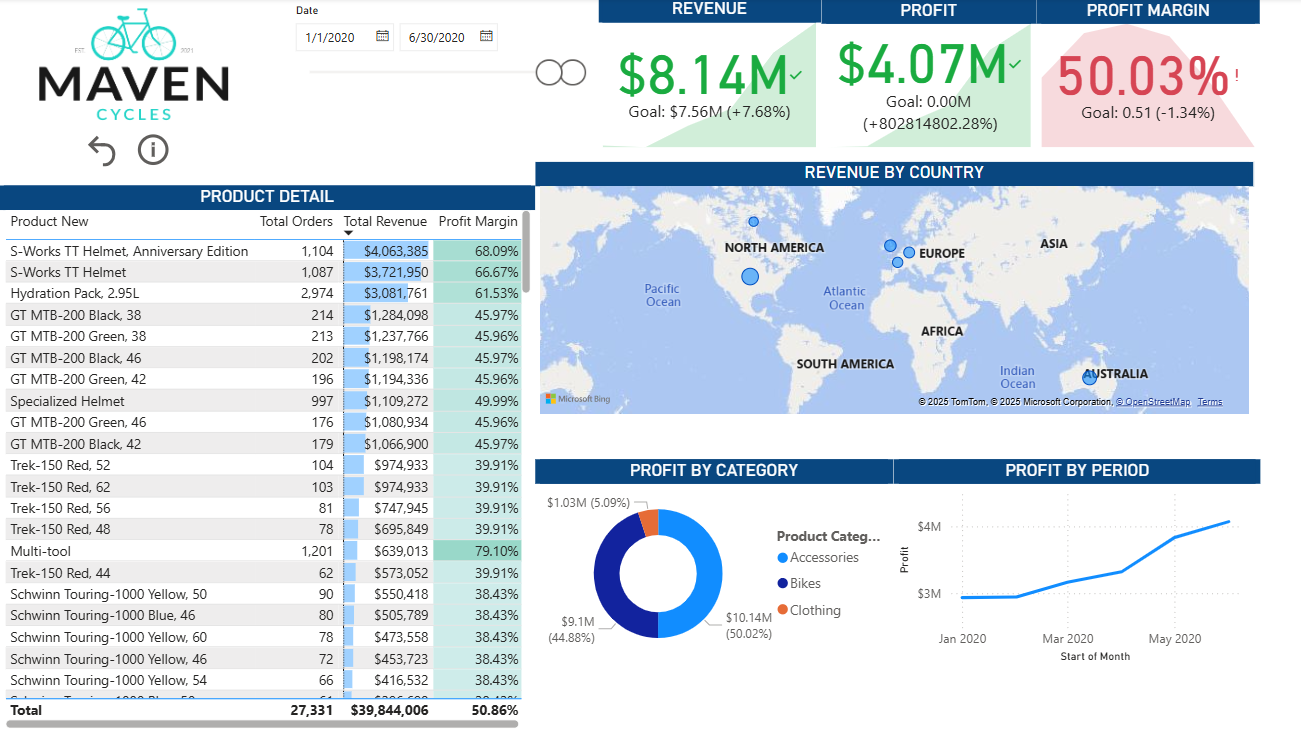

This screenshot's page, from the dashboard's own definition file:
{"tool":"powerbi","page":{"name":"Executive View","canvas":[1280,720],"ordinal":0},"visuals":[{"type":"kpi","title":"REVENUE","fields":{"Indicator":["Maven Cycles Sales.Total Revenue"],"TrendLine":["Maven Cycles Calendar.Start of Month"],"Goal":["Maven Cycle Products.Last Month Revenue"]},"box":[586.2,0,218.8,151.2],"z":0},{"type":"kpi","title":"PROFIT","fields":{"TrendLine":["Maven Cycles Calendar.Start of Month"],"Goal":["Maven Cycle Products.Last Month Profit Margin"],"Indicator":["Maven Cycles Sales.Profit"]},"box":[805,1.2,210,150],"z":1000},{"type":"kpi","title":"PROFIT MARGIN","fields":{"TrendLine":["Maven Cycles Calendar.Start of Month"],"Indicator":["Maven Cycles Sales.Profit Margin"],"Goal":["Maven Cycle Products.Last Month Profit Margin"]},"box":[1015,1.2,218.8,150],"z":2000},{"type":"tableEx","title":"PRODUCT DETAIL","fields":{"Values":["Maven Cycle Products.Product New","Maven Cycles Sales.Total Orders","Maven Cycles Sales.Total Revenue","Maven Cycles Sales.Profit Margin"]},"box":[0,183.8,525,536.2],"z":3000},{"type":"map","title":"REVENUE BY COUNTRY","fields":{"Category":["Maven Cycles Regions.Country"],"Size":["Maven Cycles Sales.Total Revenue"]},"box":[525,160,702.5,251.2],"z":4000},{"type":"lineChart","title":"PROFIT BY PERIOD","fields":{"Category":["Maven Cycles Calendar.Start of Month","Maven Cycles Calendar.Start of Quarter","Maven Cycles Calendar.Year"],"Y":["Maven Cycles Sales.Profit"]},"box":[875,451.2,358.8,203.8],"z":5000},{"type":"donutChart","title":"PROFIT BY CATEGORY ","fields":{"Y":["Maven Cycles Sales.Profit"],"Category":["Maven Cycles Product Categories.Product Category"]},"box":[525,451.2,350,205],"z":6000},{"type":"image","box":[0,0,262.5,130],"z":7000},{"type":"slicer","fields":{"Values":["Maven Cycles Calendar.Date"]},"box":[277.5,0,308.8,128.8],"z":8000},{"type":"actionButton","box":[81.2,130,50,40],"z":9000},{"type":"actionButton","box":[131.2,128.8,42.5,40],"z":10000}]}

Visuals, with their boxes in screenshot pixels (x1, y1, x2, y2), scaled from the page's 1280x720 canvas onto the 1301x733 screenshot:
"REVENUE" kpi: region(596, 0, 818, 154)
"PROFIT" kpi: region(818, 1, 1032, 154)
"PROFIT MARGIN" kpi: region(1032, 1, 1254, 154)
"PRODUCT DETAIL" tableEx: region(0, 187, 534, 732)
"REVENUE BY COUNTRY" map: region(534, 163, 1248, 419)
"PROFIT BY PERIOD" lineChart: region(889, 459, 1254, 667)
"PROFIT BY CATEGORY " donutChart: region(534, 459, 889, 668)
image: region(0, 0, 267, 132)
slicer - Maven Cycles Calendar.Date: region(282, 0, 596, 131)
actionButton: region(83, 132, 133, 173)
actionButton: region(133, 131, 177, 172)
